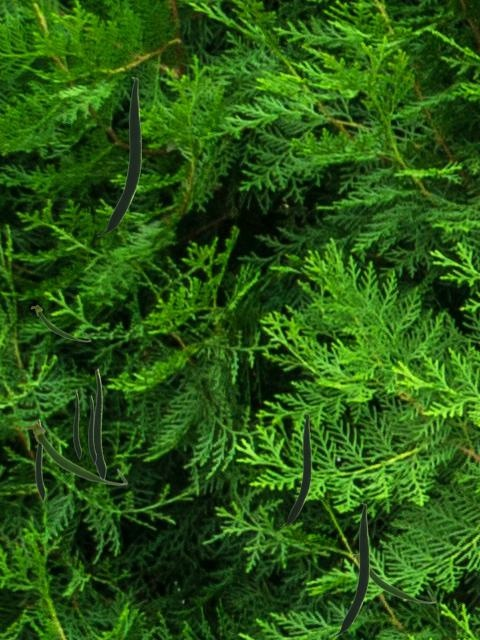french_bean: (97, 77, 140, 235), (24, 421, 127, 485), (332, 503, 368, 635), (351, 553, 435, 603), (280, 413, 310, 526), (30, 304, 90, 341), (94, 368, 105, 478), (35, 419, 44, 500), (88, 395, 95, 463), (73, 390, 80, 458)
